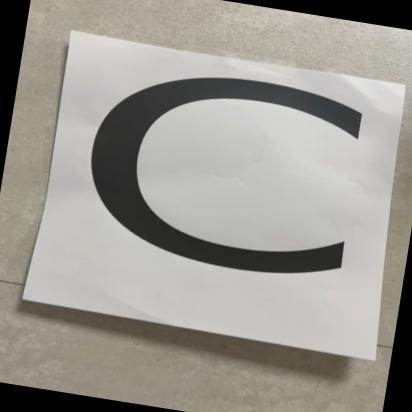seat: (34, 36, 409, 345)
